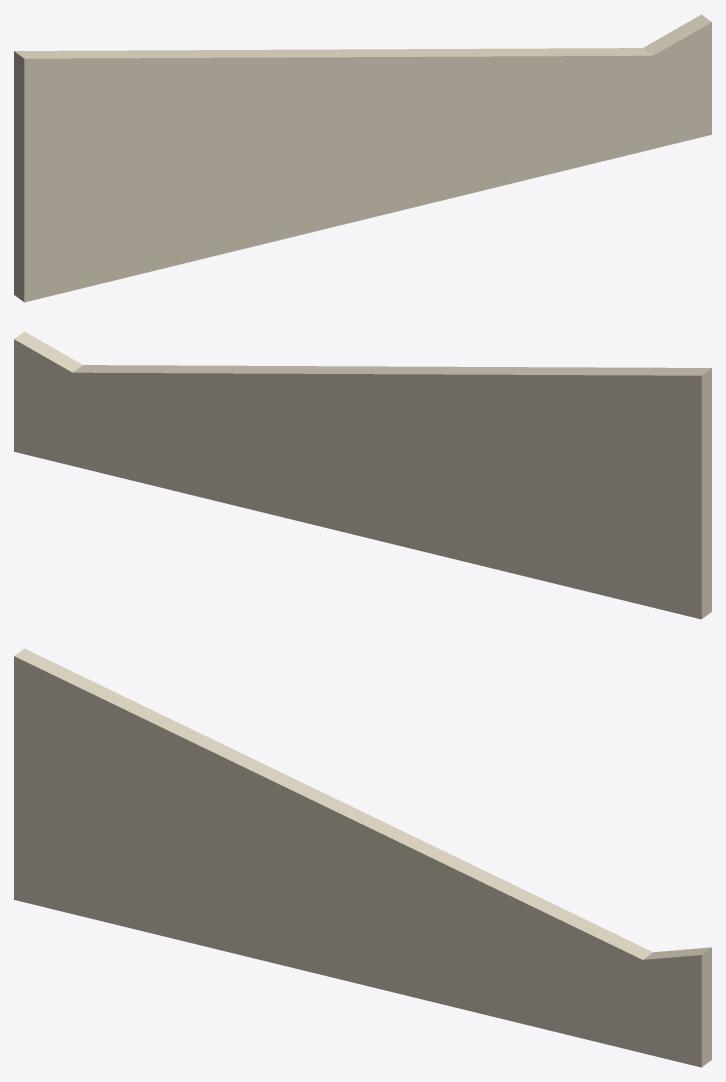
3 renders of one model, top to bottom at view 1: azimuth 30°, elevation 25°; view 2: azimuth 150°, elevation 25°; view 3: azimuth 330°, elevation 25°, orthographic.
Parts seen in each view (by area): view 1: A-ROOF-INFILL-11; view 2: A-ROOF-INFILL-11; view 3: A-ROOF-INFILL-11.
Part boxes in pixels (x1=…): A-ROOF-INFILL-11: x1=14, y1=14, x2=711, y2=302; A-ROOF-INFILL-11: x1=14, y1=331, x2=711, y2=619; A-ROOF-INFILL-11: x1=14, y1=648, x2=711, y2=1067.
Bounding box in the file's own units: 6.05 × 2.05 × 0.16.
